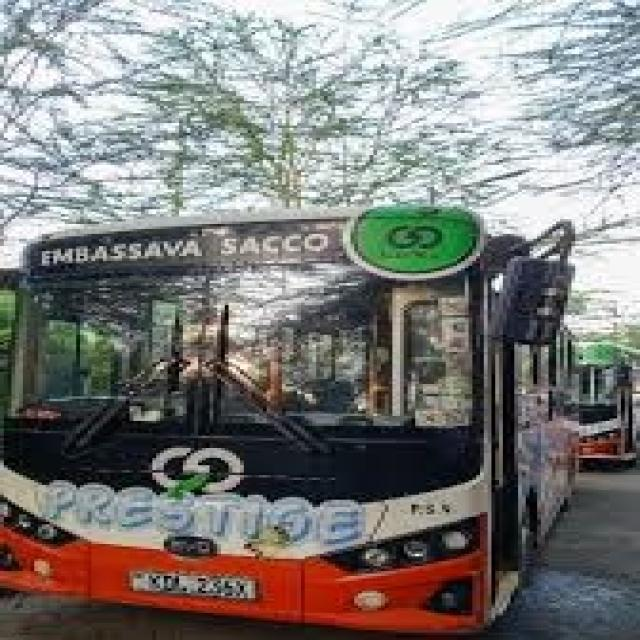bus: (0, 142, 599, 640)
